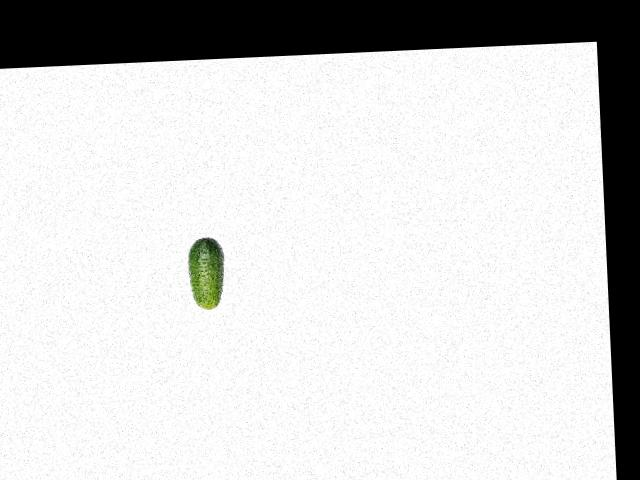cucumber: (185, 236, 226, 310)
